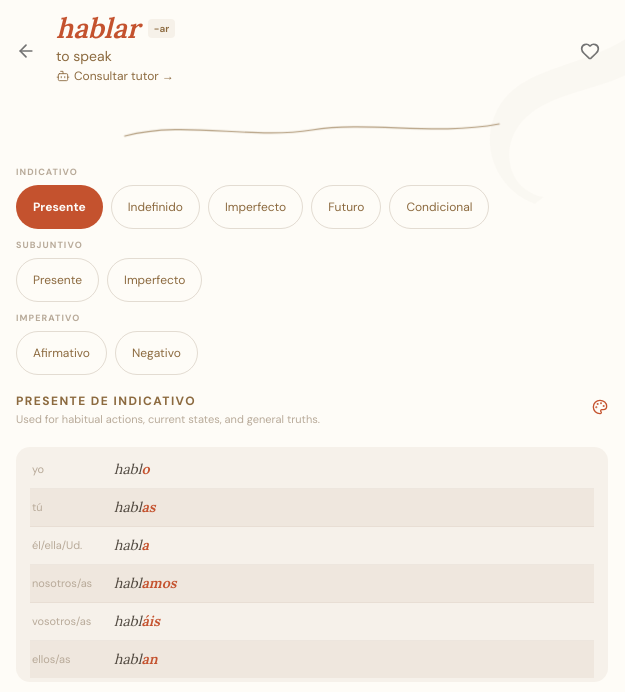
VerbDetailClient › switches tense when clicking a different pill
Check: the table is shown, box [30, 451, 594, 678]
Check: the text "Sin datos aún" is not shown
// Click Indefinido tab
Click the tab "Indefinido" at coordinates (155, 207), box [111, 185, 200, 229]
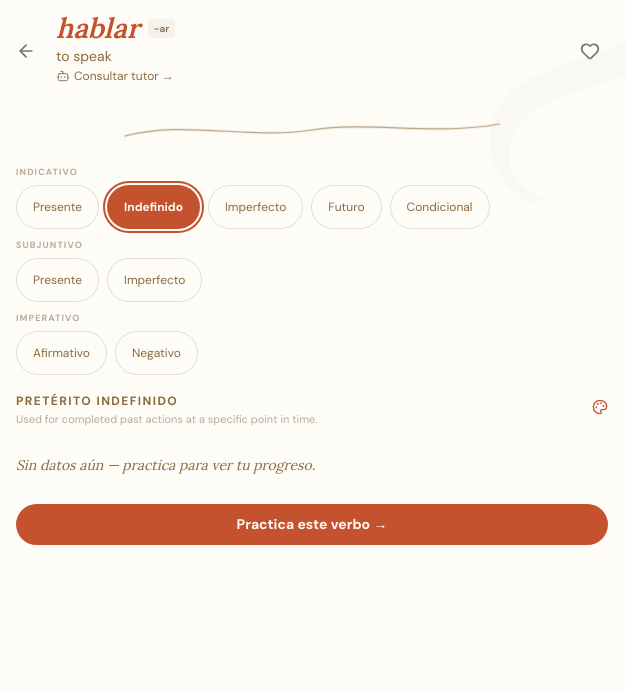
Check: the text "Sin datos aún — practica para ver tu progreso." is shown, box [16, 456, 315, 474]
Check: the table is gone
